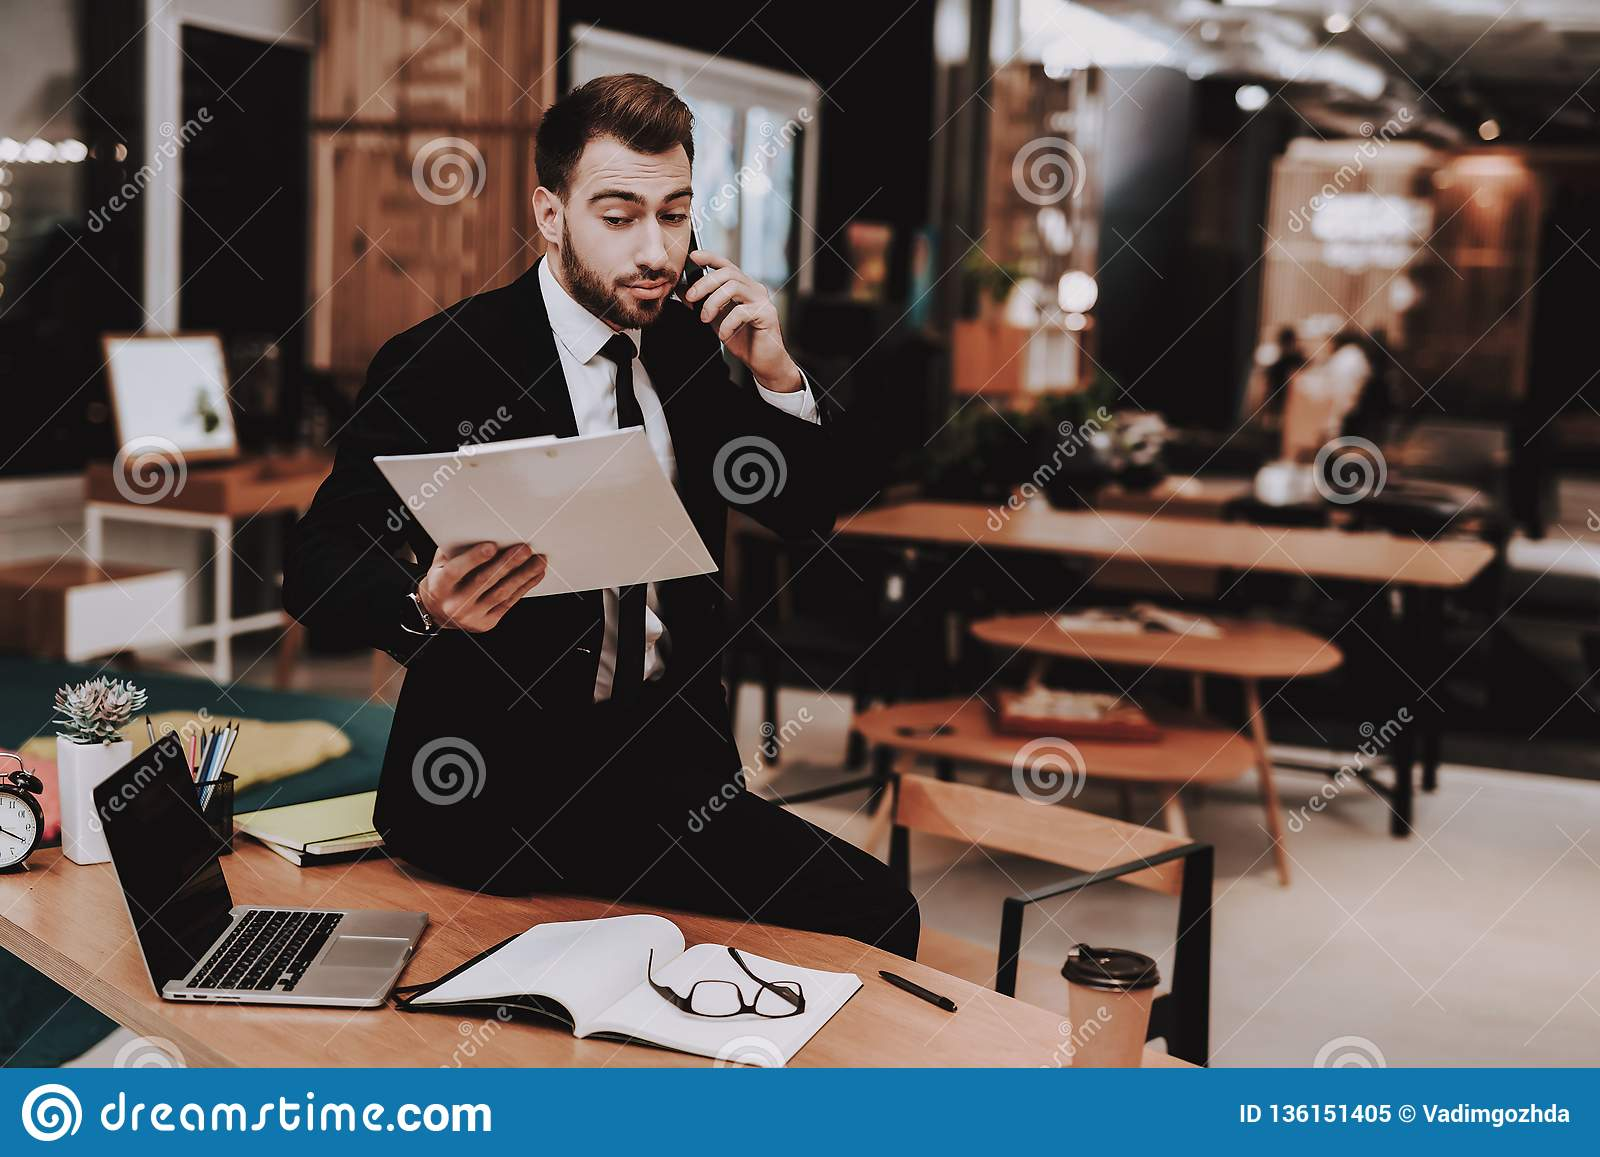phone: (682, 216, 717, 317)
talk: (579, 173, 791, 386)
